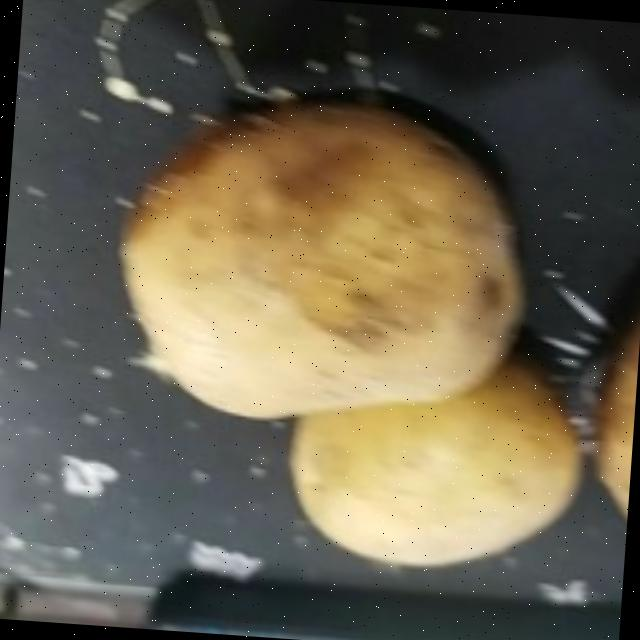Damaged potato: (100, 83, 542, 443)
Potato: (271, 336, 588, 580)
